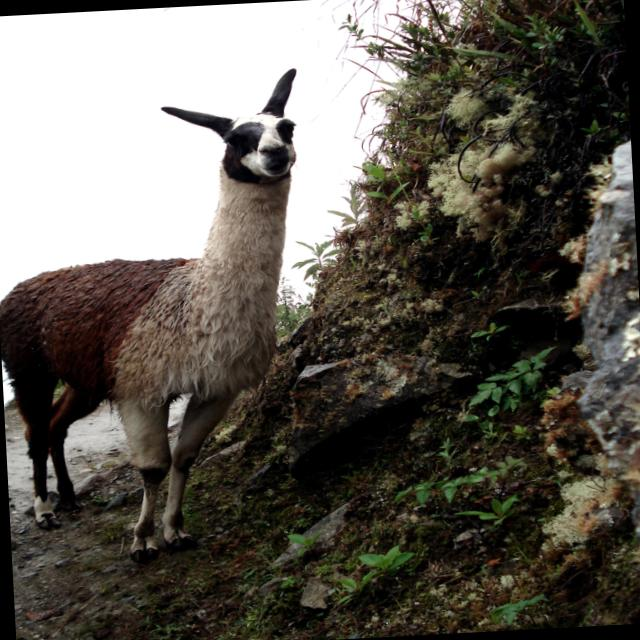alpaca: (0, 68, 321, 566)
